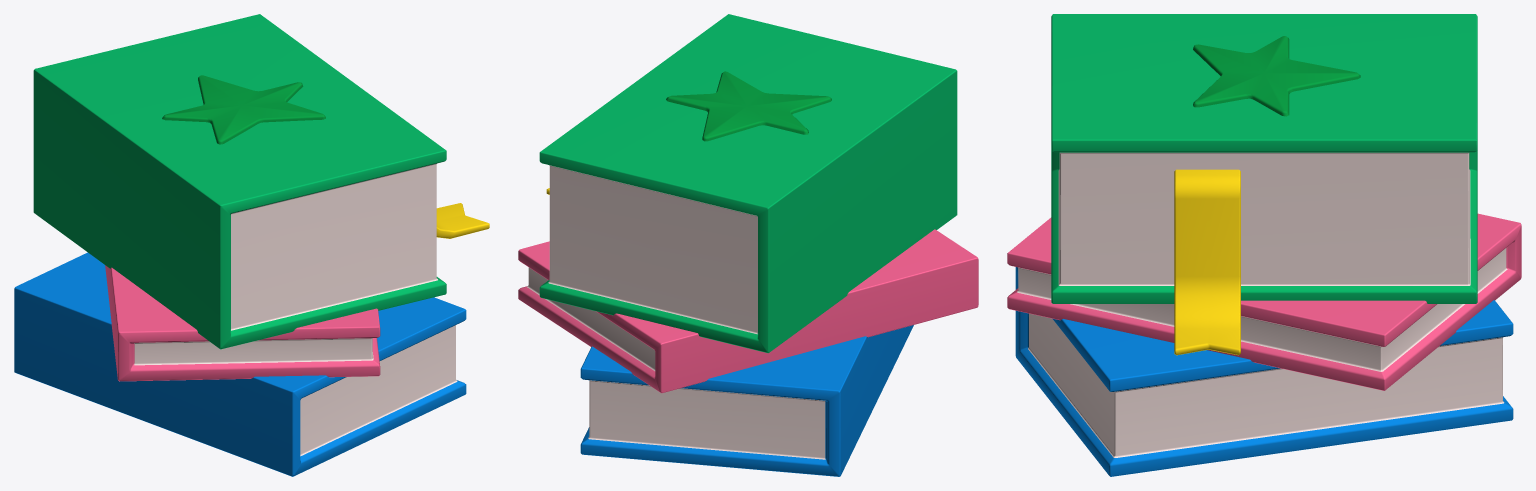
File: Public_2_Books_2.glb
3 views of the same model, side by side, from view 1: azimuth 30°, elevation 25°; view 2: azimuth 150°, elevation 25°; view 3: azimuth 270°, elevation 25° (orthographic). The views are drawn at different scales.
Visible parts, largest first — view 1: Public_2_Books_2; view 2: Public_2_Books_2; view 3: Public_2_Books_2.
Boxes of the visible parts, x1,y1,x2,y2 form: Public_2_Books_2: (14,14,489,476); Public_2_Books_2: (518,14,978,476); Public_2_Books_2: (1007,14,1521,476).
Size of the model in its own units: 2.44 by 1.68 by 2.47.
Materials: 1 (1 with a texture image).
